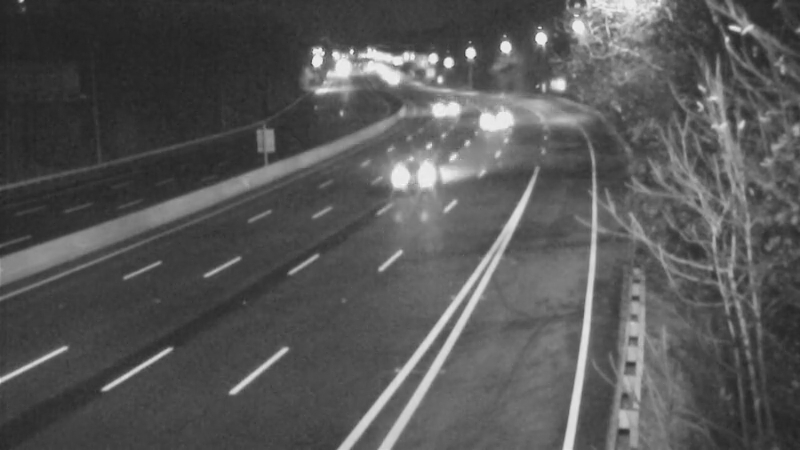vehicle: (375, 134, 455, 214), (419, 84, 469, 134), (462, 93, 512, 143)
